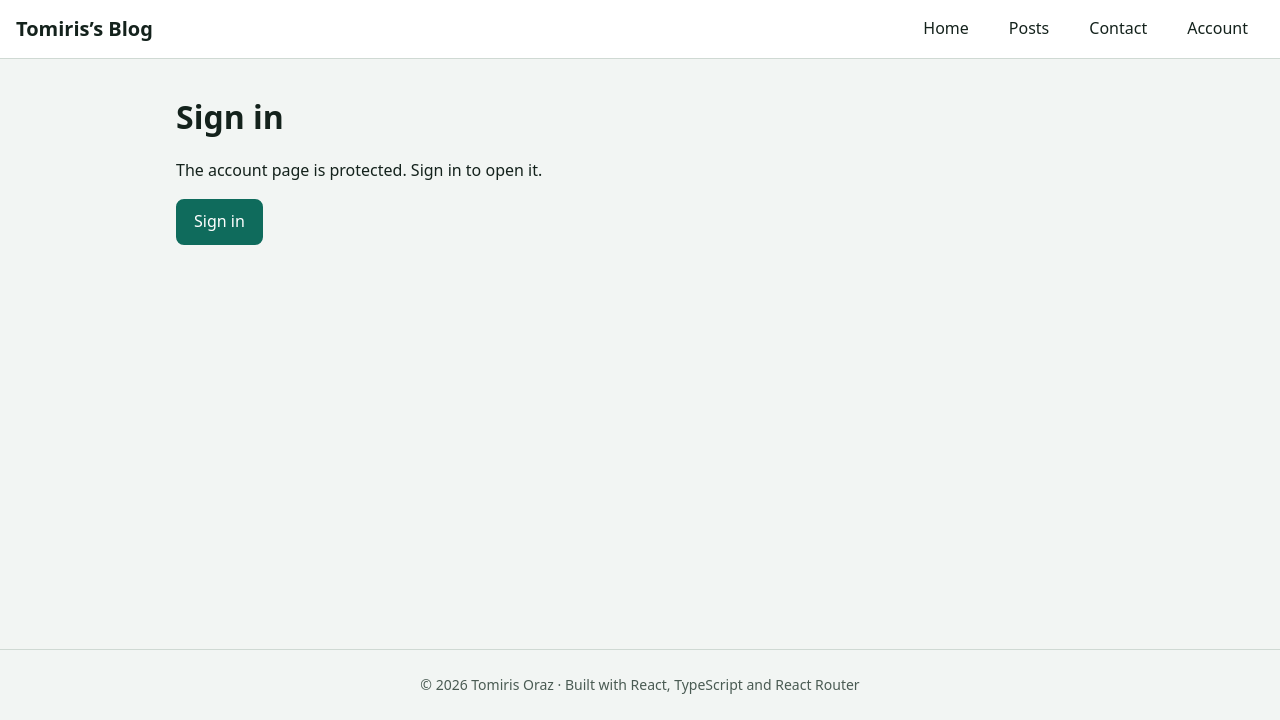
blog › protects the account page: sign-in first, then the page, then protected again
The width and height of the screenshot is (1280, 720).
Expected: the heading "Sign in" is shown, [176,95,284,138]
Click the button "Sign in": (219, 222) [176,199,263,245]
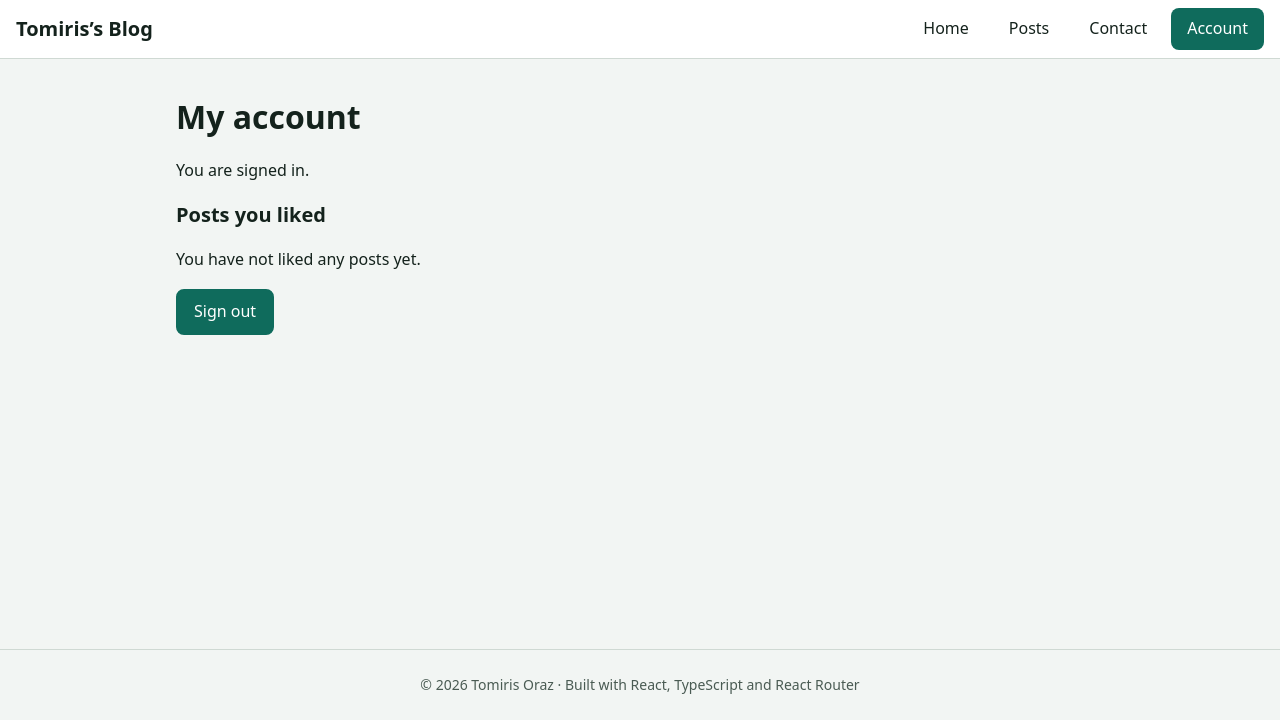
Result: the heading "My account" is shown at [176,95,361,138]
Click the button "Sign out": (225, 312) [176,289,274,335]
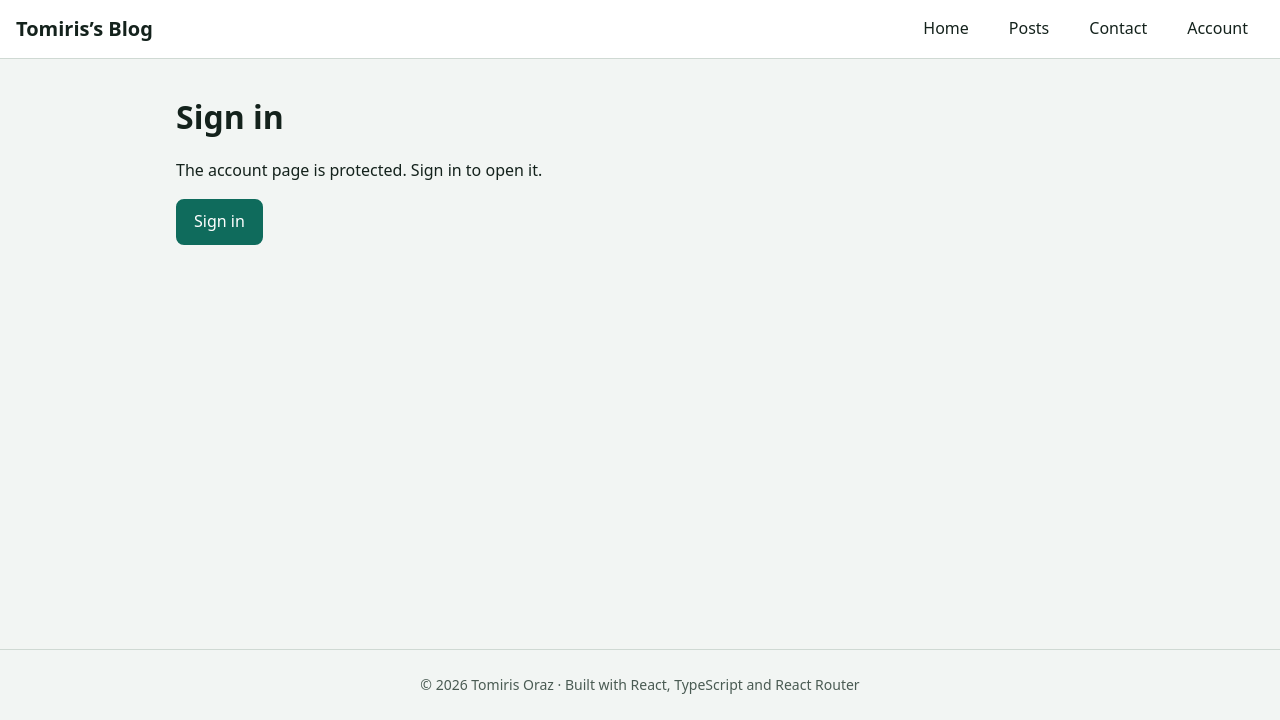
Result: the heading "Sign in" is shown at [176,95,284,138]
